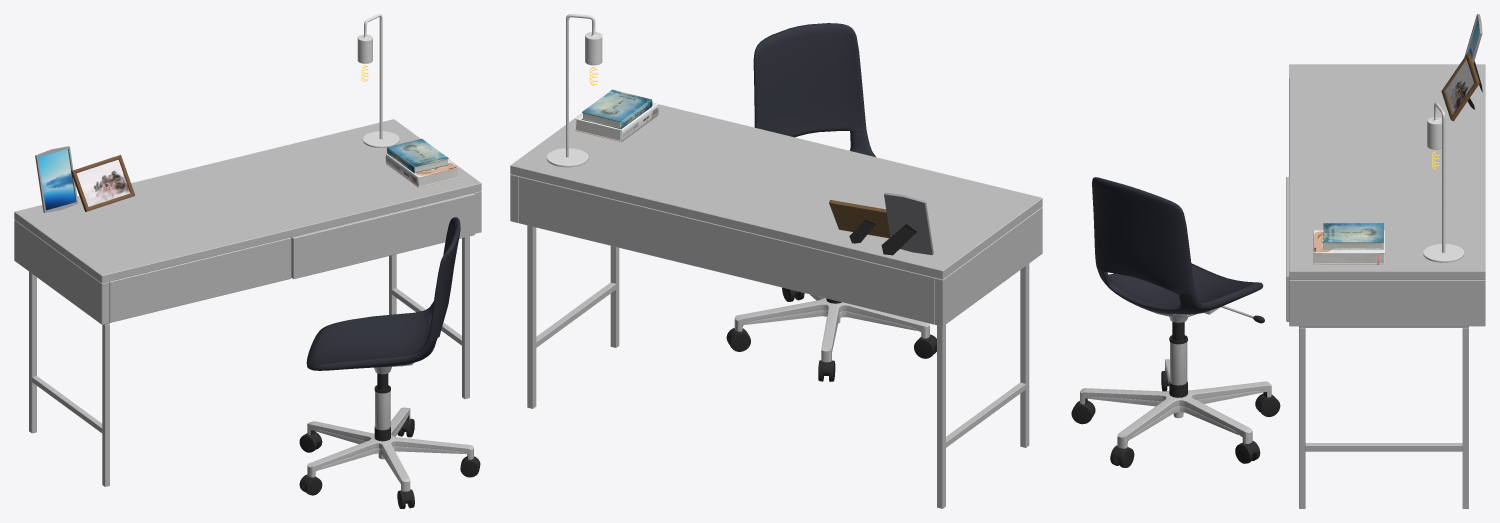
3 renders of one model, left to right at view 1: azimuth 30°, elevation 25°; view 2: azimuth 150°, elevation 25°; view 3: azimuth 270°, elevation 25°, orthographic. The views are drawn at different scales.
Parts seen in each view (by area): view 1: Desk, Office-Chair_Office-Chair_0, Desk-Door_02_Desk_0, Desk-Door_01_Desk_0, Photography_Type1, Photography_Type2, Table-Lamp_Table-Lamp_0, Book-Type2, Book-Type1; view 2: Desk, Office-Chair_Office-Chair_0, Photography_Type2, Table-Lamp_Table-Lamp_0, Photography_Type1, Book-Type2, Book-Type1; view 3: Desk, Office-Chair_Office-Chair_0, Table-Lamp_Table-Lamp_0, Book-Type2, Photography_Type1, Book-Type1, Desk-Door_01_Desk_0, Photography_Type2.
Part boxes in pixels (box(x1,y1,x2,y2)): Desk: box(14, 119, 481, 486); Office-Chair_Office-Chair_0: box(299, 217, 480, 508); Desk-Door_02_Desk_0: box(109, 237, 291, 322); Desk-Door_01_Desk_0: box(291, 193, 474, 279); Photography_Type1: box(71, 155, 135, 211); Photography_Type2: box(35, 146, 78, 212); Table-Lamp_Table-Lamp_0: box(357, 14, 399, 147); Book-Type2: box(387, 138, 448, 173); Book-Type1: box(385, 154, 459, 187); Desk: box(510, 104, 1042, 508); Office-Chair_Office-Chair_0: box(726, 23, 936, 381); Photography_Type2: box(881, 192, 933, 255); Table-Lamp_Table-Lamp_0: box(546, 14, 602, 167); Photography_Type1: box(829, 200, 890, 243); Book-Type2: box(581, 89, 652, 129); Book-Type1: box(575, 102, 658, 142); Desk: box(1289, 64, 1485, 508); Office-Chair_Office-Chair_0: box(1071, 177, 1280, 467); Table-Lamp_Table-Lamp_0: box(1423, 102, 1464, 262); Book-Type2: box(1323, 223, 1383, 249); Photography_Type1: box(1441, 53, 1479, 121); Book-Type1: box(1313, 230, 1384, 264); Desk-Door_01_Desk_0: box(1286, 177, 1289, 321); Photography_Type2: box(1464, 14, 1482, 92).
Size of the model in its own units: 1500 by 1296 by 1266.
